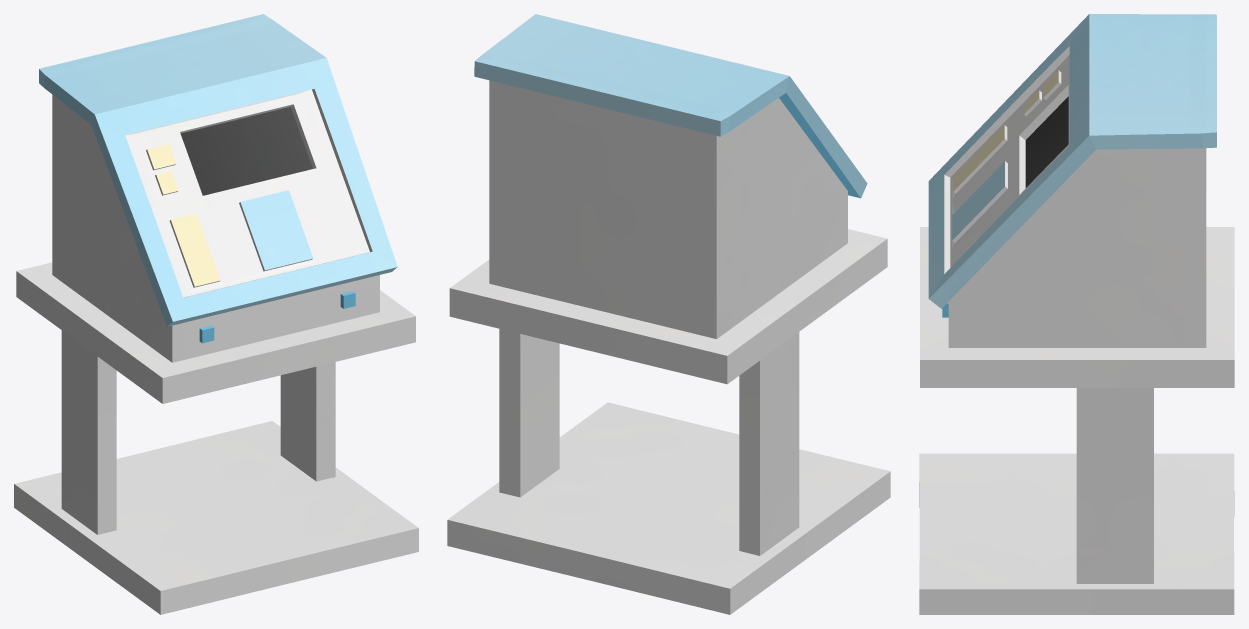
The model's file is machine_2.glb.
3 views of the same model, side by side, from view 1: azimuth 30°, elevation 25°; view 2: azimuth 150°, elevation 25°; view 3: azimuth 270°, elevation 25° (orthographic). The views are drawn at different scales.
Parts seen in each view (by area): view 1: machine_2; view 2: machine_2; view 3: machine_2.
Part boxes in pixels (x1=…): machine_2: x1=14, y1=14, x2=418, y2=614; machine_2: x1=447, y1=14, x2=890, y2=614; machine_2: x1=919, y1=14, x2=1234, y2=614.
Size of the model in its own units: 0.5123 by 0.8355 by 0.5039.
Materials: 1 (1 with a texture image).
